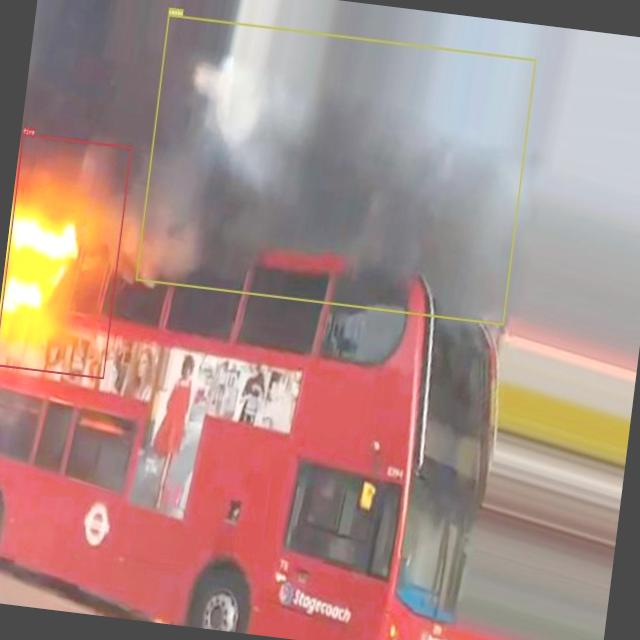fire: (0, 132, 132, 378)
smoke: (135, 13, 536, 324)
